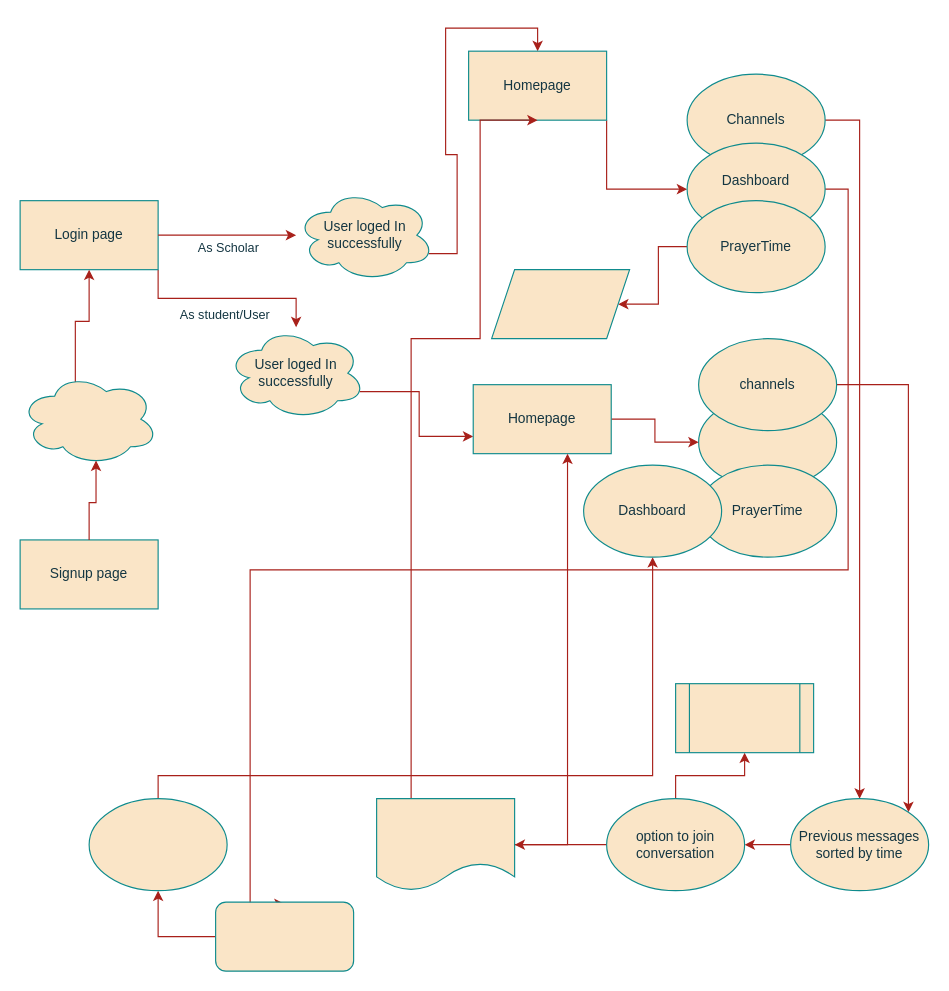
This 949x991 diagram has some shape labels left out. Each missing label, with the box of its shape:
back button to go to Homepage: (375, 798, 515, 891)
Direct messages: (697, 395, 837, 488)
indicating prayer time: (490, 269, 630, 339)
Reply will be sent to user Dashboard: (88, 798, 227, 891)
scholar will get any private message here: (214, 901, 354, 971)
Show messages to everyone: (674, 683, 814, 753)
User signed Up successfully: (19, 372, 158, 465)
